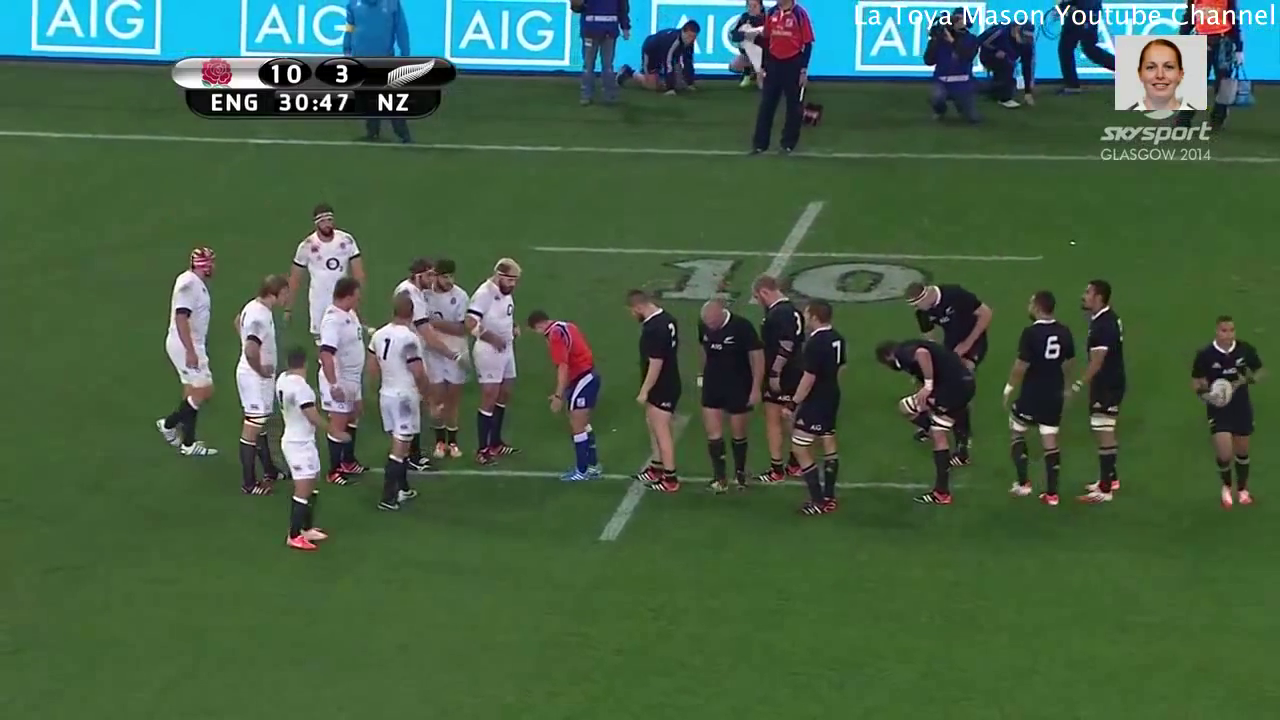10_metre: (358, 405, 929, 556), (527, 196, 1052, 316)
ball: (1201, 370, 1238, 420)
player: (870, 336, 968, 514), (1067, 277, 1134, 515), (1004, 287, 1071, 512), (1187, 312, 1261, 513), (157, 241, 223, 464), (527, 307, 610, 484), (620, 289, 689, 496), (690, 299, 760, 498), (365, 293, 425, 522), (788, 298, 850, 518), (271, 344, 332, 556), (470, 255, 530, 468), (233, 272, 286, 501), (745, 276, 800, 488), (425, 252, 473, 473), (904, 277, 993, 358), (332, 278, 367, 480), (282, 208, 365, 289), (385, 261, 434, 342)
